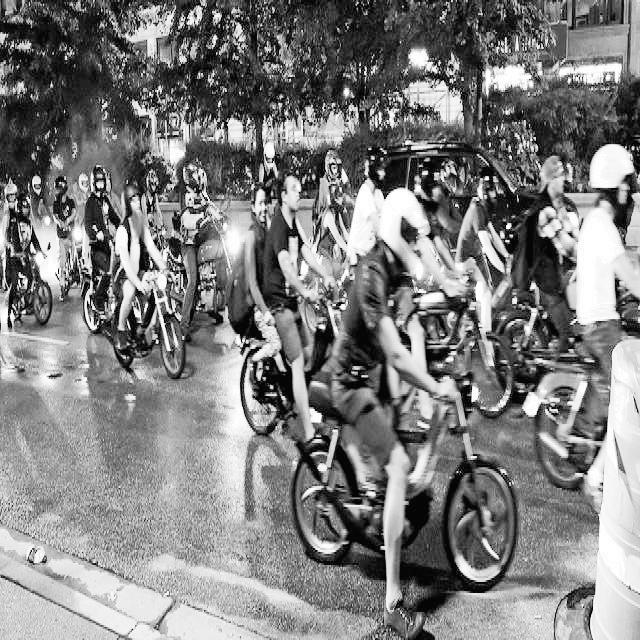Motorcycle: (285, 346, 520, 593), (527, 315, 640, 518), (237, 297, 351, 441), (104, 255, 193, 395), (156, 211, 242, 331), (51, 216, 96, 309), (79, 250, 121, 348)
Person: (330, 184, 436, 484), (572, 140, 640, 345), (268, 169, 312, 339)
